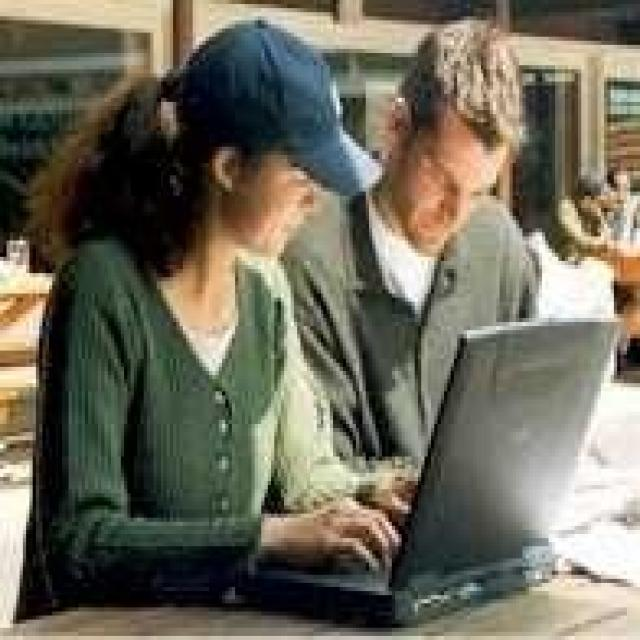laptop: (267, 314, 624, 640)
